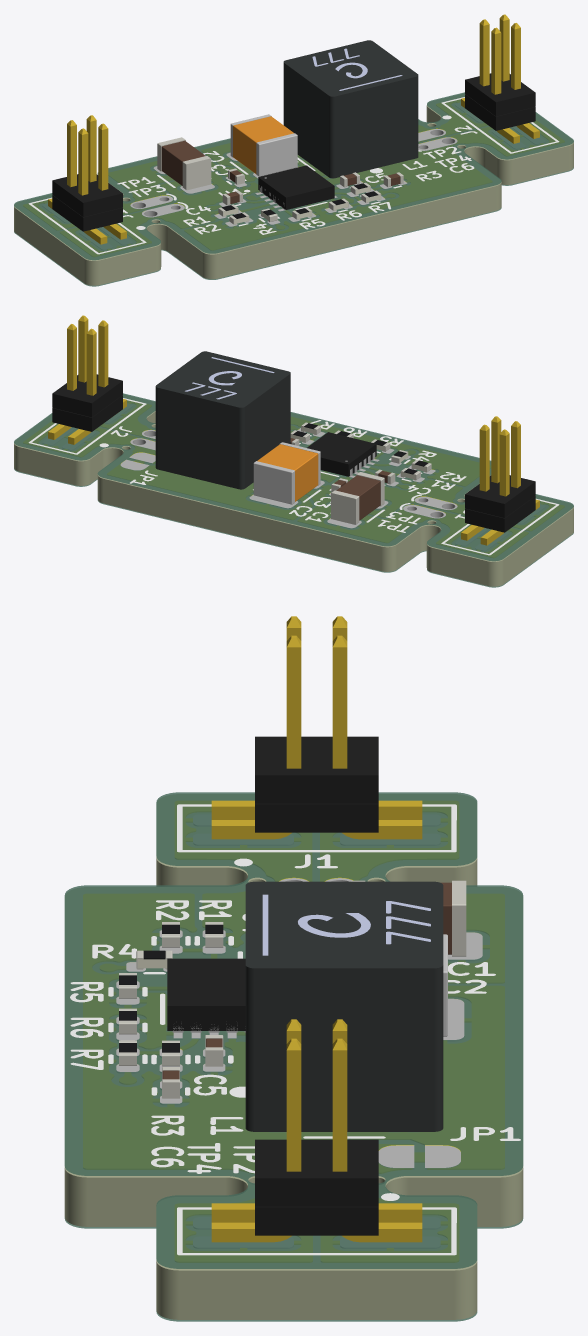
The model's file is minimal_max17761_side.glb.
3 renders of one model, top to bottom at view 1: azimuth 30°, elevation 25°; view 2: azimuth 150°, elevation 25°; view 3: azimuth 270°, elevation 25°, orthographic. The views are drawn at different scales.
Visible parts, largest first — view 1: =>[0:1:1:31], =>[0:1:1:32], L1, =>[0:1:1:27], =>[0:1:1:2] (×2), =>[0:1:1:4] (×3), =>[0:1:1:30], =>[0:1:1:28], =>[0:1:1:13], =>[0:1:1:1] (×2), C1, =>[0:1:1:5] (+1 smaller); view 2: =>[0:1:1:31], =>[0:1:1:32], L1, =>[0:1:1:27], =>[0:1:1:2] (×2), =>[0:1:1:4] (×2), =>[0:1:1:28], =>[0:1:1:30], =>[0:1:1:3] (×3), =>[0:1:1:1] (×2), C1, =>[0:1:1:13] (+1 smaller); view 3: =>[0:1:1:31], =>[0:1:1:32], L1, =>[0:1:1:27], =>[0:1:1:4] (×2), =>[0:1:1:30], =>[0:1:1:2] (×2), =>[0:1:1:28], =>[0:1:1:3] (×2), =>[0:1:1:1] (×2), =>[0:1:1:13], C1.
Part boxes in pixels (x1=…): =>[0:1:1:31]: x1=14, y1=92, x2=573, y2=286; =>[0:1:1:32]: x1=14, y1=94, x2=573, y2=285; L1: x1=283, y1=40, x2=418, y2=178; =>[0:1:1:27]: x1=23, y1=100, x2=564, y2=256; =>[0:1:1:2] (×2): x1=67, y1=14, x2=520, y2=195; =>[0:1:1:4] (×3): x1=52, y1=73, x2=535, y2=216; =>[0:1:1:30]: x1=28, y1=97, x2=559, y2=254; =>[0:1:1:28]: x1=42, y1=103, x2=544, y2=249; =>[0:1:1:13]: x1=258, y1=165, x2=334, y2=209; =>[0:1:1:1] (×2): x1=52, y1=94, x2=535, y2=231; C1: x1=157, y1=137, x2=211, y2=190; =>[0:1:1:5]: x1=233, y1=116, x2=293, y2=173; =>[0:1:1:31]: x1=14, y1=393, x2=573, y2=587; =>[0:1:1:32]: x1=14, y1=395, x2=573, y2=586; L1: x1=155, y1=351, x2=290, y2=489; =>[0:1:1:27]: x1=23, y1=401, x2=564, y2=557; =>[0:1:1:2] (×2): x1=67, y1=315, x2=520, y2=496; =>[0:1:1:4] (×2): x1=52, y1=374, x2=535, y2=517; =>[0:1:1:28]: x1=42, y1=404, x2=545, y2=550; =>[0:1:1:30]: x1=28, y1=398, x2=559, y2=555; =>[0:1:1:3] (×3): x1=48, y1=399, x2=539, y2=545; =>[0:1:1:1] (×2): x1=52, y1=395, x2=535, y2=532; C1: x1=331, y1=472, x2=384, y2=524; =>[0:1:1:13]: x1=307, y1=432, x2=376, y2=476; =>[0:1:1:31]: x1=64, y1=792, x2=523, y2=1321; =>[0:1:1:32]: x1=64, y1=794, x2=523, y2=1319; L1: x1=245, y1=881, x2=443, y2=1131; =>[0:1:1:27]: x1=83, y1=801, x2=504, y2=1262; =>[0:1:1:4] (×2): x1=255, y1=736, x2=378, y2=1206; =>[0:1:1:30]: x1=70, y1=804, x2=520, y2=1255; =>[0:1:1:2] (×2): x1=286, y1=616, x2=347, y2=1171; =>[0:1:1:28]: x1=116, y1=815, x2=482, y2=1248; =>[0:1:1:3] (×2): x1=211, y1=800, x2=422, y2=1242; =>[0:1:1:1] (×2): x1=255, y1=803, x2=378, y2=1235; =>[0:1:1:13]: x1=167, y1=958, x2=245, y2=1030; C1: x1=351, y1=880, x2=466, y2=956.
Size of the model in its own units: 0.0312 by 0.00778 by 0.0127.
